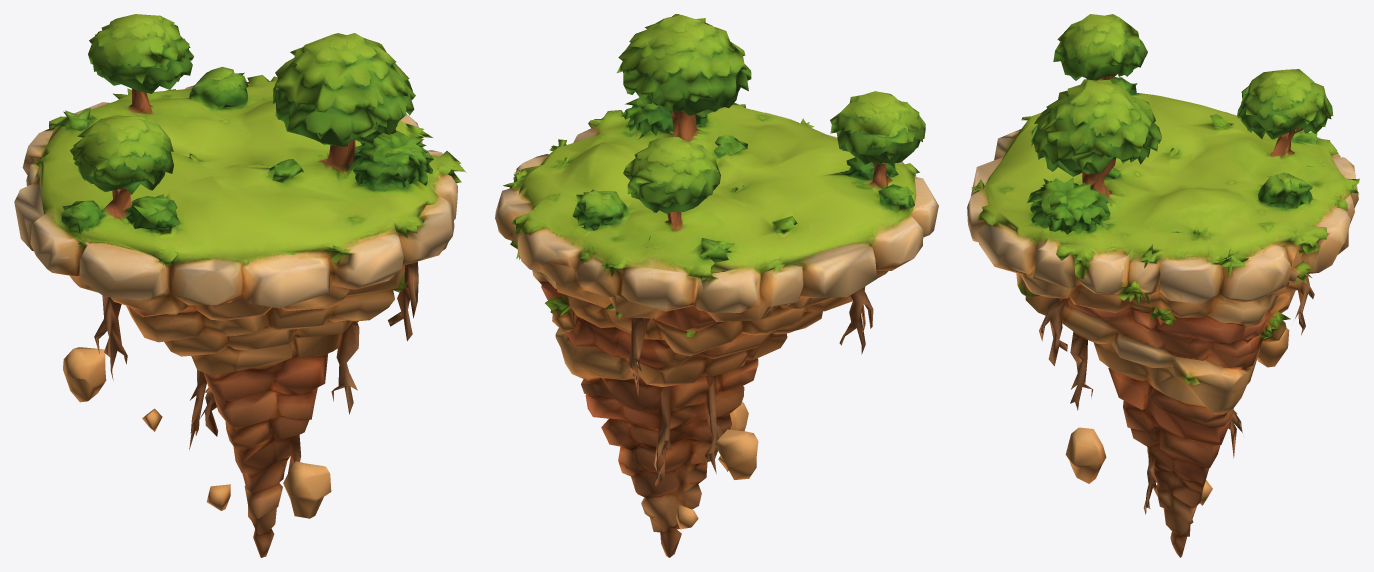
The model's file is vista-sky-island.glb.
The picture shows the model from 3 angles, left to right: view 1: azimuth 30°, elevation 25°; view 2: azimuth 150°, elevation 25°; view 3: azimuth 270°, elevation 25°; orthographic projection. The views are drawn at different scales.
Visible parts, largest first — view 1: tripo_node_992e40aa-160a-4061-a95c-408211c6a358; view 2: tripo_node_992e40aa-160a-4061-a95c-408211c6a358; view 3: tripo_node_992e40aa-160a-4061-a95c-408211c6a358.
Part boxes in pixels (x1=…): tripo_node_992e40aa-160a-4061-a95c-408211c6a358: x1=14, y1=14, x2=466, y2=557; tripo_node_992e40aa-160a-4061-a95c-408211c6a358: x1=495, y1=14, x2=938, y2=557; tripo_node_992e40aa-160a-4061-a95c-408211c6a358: x1=967, y1=14, x2=1359, y2=557.
Bounding box in the file's own units: 0.76 × 0.9999 × 0.734.
1 material, 1 textured.
